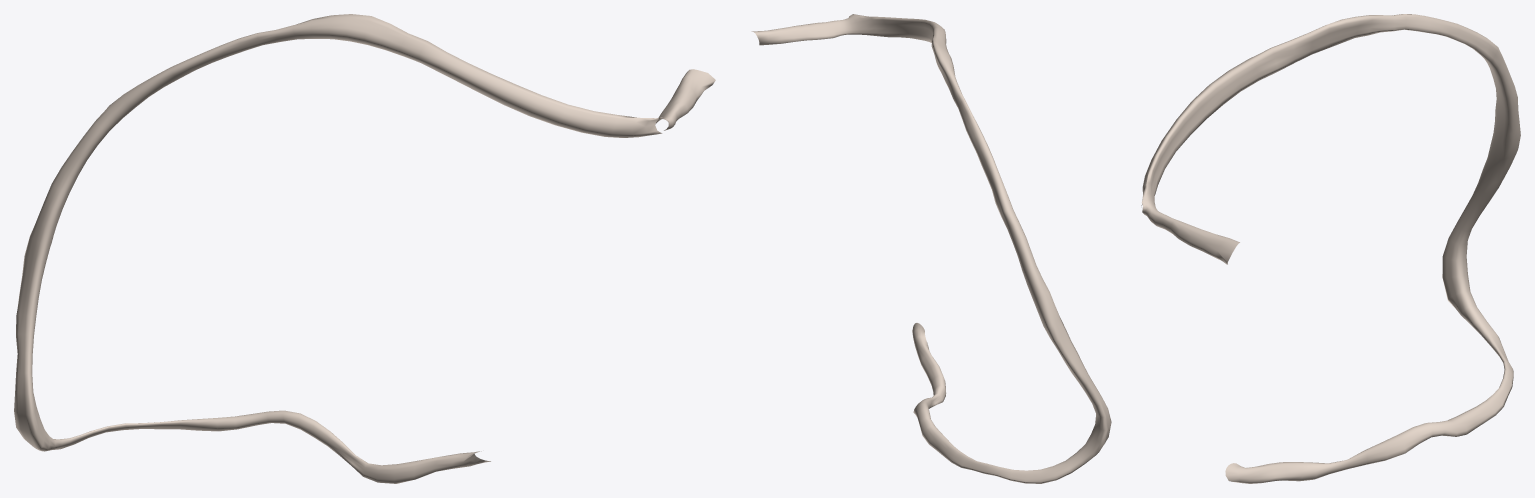
Rendered from frau2-547.glb.
3 views of the same model, side by side, from view 1: azimuth 30°, elevation 25°; view 2: azimuth 150°, elevation 25°; view 3: azimuth 270°, elevation 25° (orthographic). The views are drawn at different scales.
Visible parts, largest first — view 1: VH_F_coronary_ligament_of_liver; view 2: VH_F_coronary_ligament_of_liver; view 3: VH_F_coronary_ligament_of_liver.
Part boxes in pixels (x1,y1,x2,y2): VH_F_coronary_ligament_of_liver: (14,14,715,483); VH_F_coronary_ligament_of_liver: (751,14,1111,483); VH_F_coronary_ligament_of_liver: (1141,14,1520,483).
Bounding box in the file's own units: 0.1623 × 0.1224 × 0.093.
